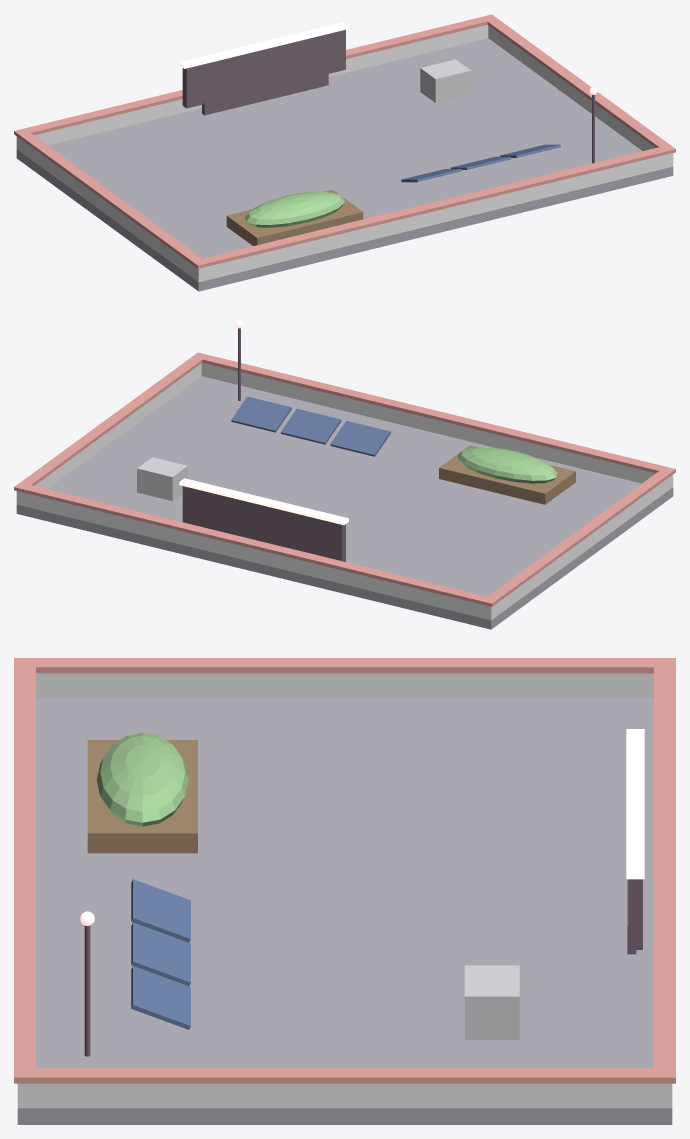
Rendered from Roof.glb.
The picture shows the model from 3 angles, top to bottom: view 1: azimuth 30°, elevation 25°; view 2: azimuth 150°, elevation 25°; view 3: azimuth 270°, elevation 25°; orthographic projection. The views are drawn at different scales.
Parts seen in each view (by area): view 1: Roof_4, Roof_8, Roof_6, Roof_1, Roof_2, Roof_3, Roof_5, Roof_7, Roof_0; view 2: Roof_4, Roof_8, Roof_6, Roof_1, Roof_0, Roof_3, Roof_2, Roof_5, Roof_7; view 3: Roof_4, Roof_6, Roof_8, Roof_0, Roof_2, Roof_3, Roof_5, Roof_7, Roof_1.
Part boxes in pixels (x1,y1,x2,y2): Roof_4: (16,38,673,291); Roof_8: (16,24,673,282); Roof_6: (14,14,675,268); Roof_1: (182,29,594,163); Roof_2: (245,191,344,227); Roof_3: (226,189,363,245); Roof_5: (420,59,470,102); Roof_7: (179,22,348,68); Roof_0: (401,144,560,182); Roof_4: (16,376,673,629); Roof_8: (16,363,673,620); Roof_6: (14,352,675,606); Roof_1: (182,328,345,561); Roof_0: (231,396,390,456); Roof_3: (439,445,575,504); Roof_2: (457,447,557,483); Roof_5: (137,457,187,500); Roof_7: (179,478,348,525); Roof_4: (17,698,672,1124); Roof_6: (14,658,675,1083); Roof_8: (17,673,672,1108); Roof_0: (131,879,190,1029); Roof_2: (97,733,188,826); Roof_3: (87,740,197,853); Roof_5: (464,965,519,1039); Roof_7: (626,729,644,879); Roof_1: (84,879,642,1056).
Size of the model in its own units: 54 by 9.6 by 36.
